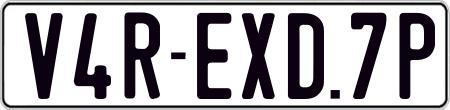4: (72, 11, 115, 99)
7: (351, 11, 386, 99)
D: (287, 13, 327, 105)
E: (194, 11, 230, 101)
P: (399, 13, 437, 103)
R: (124, 10, 166, 100)
V: (25, 10, 63, 97)
X: (240, 12, 279, 102)
